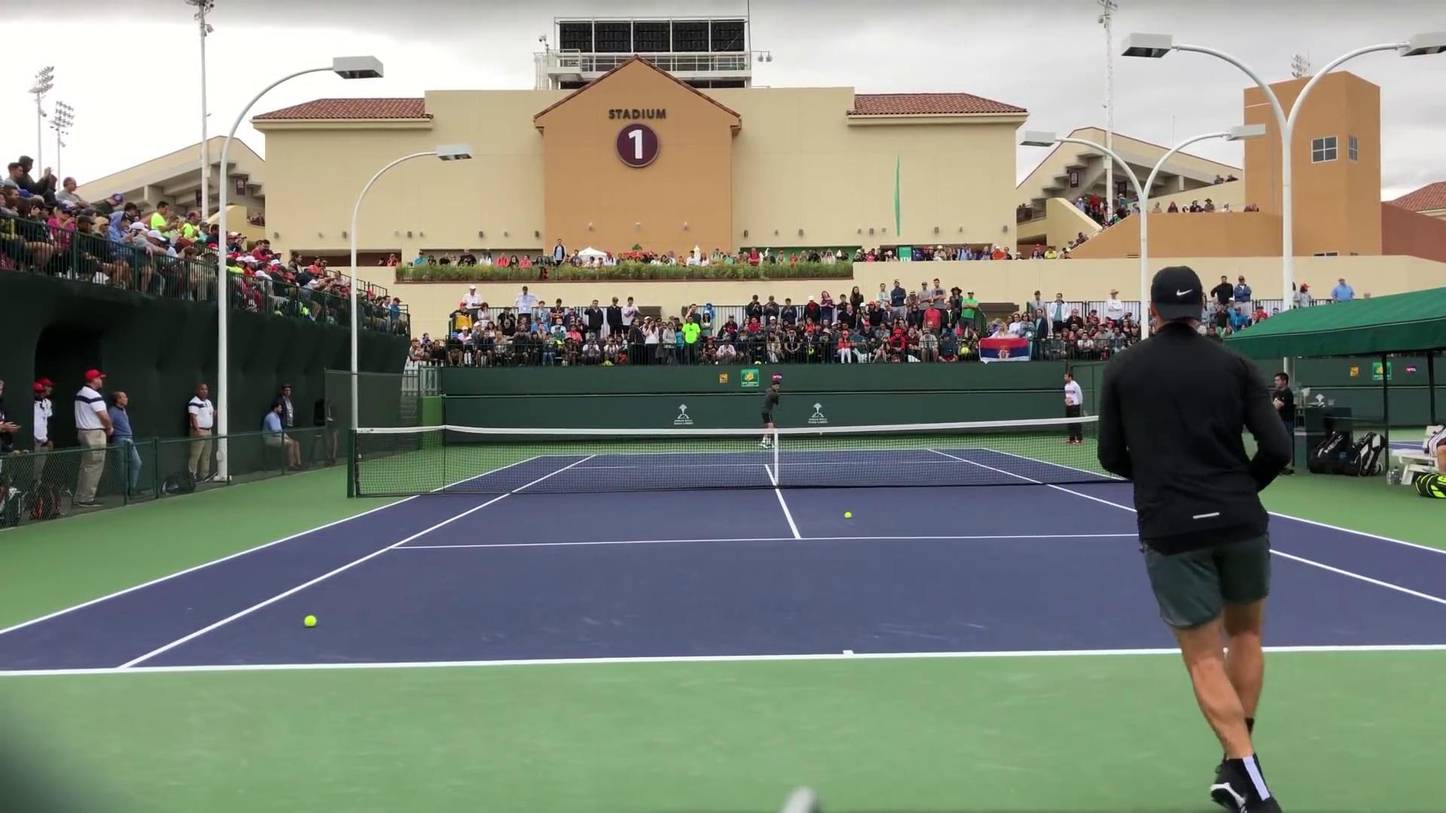ball: (303, 615, 318, 627), (816, 430, 825, 438), (844, 512, 853, 518)
